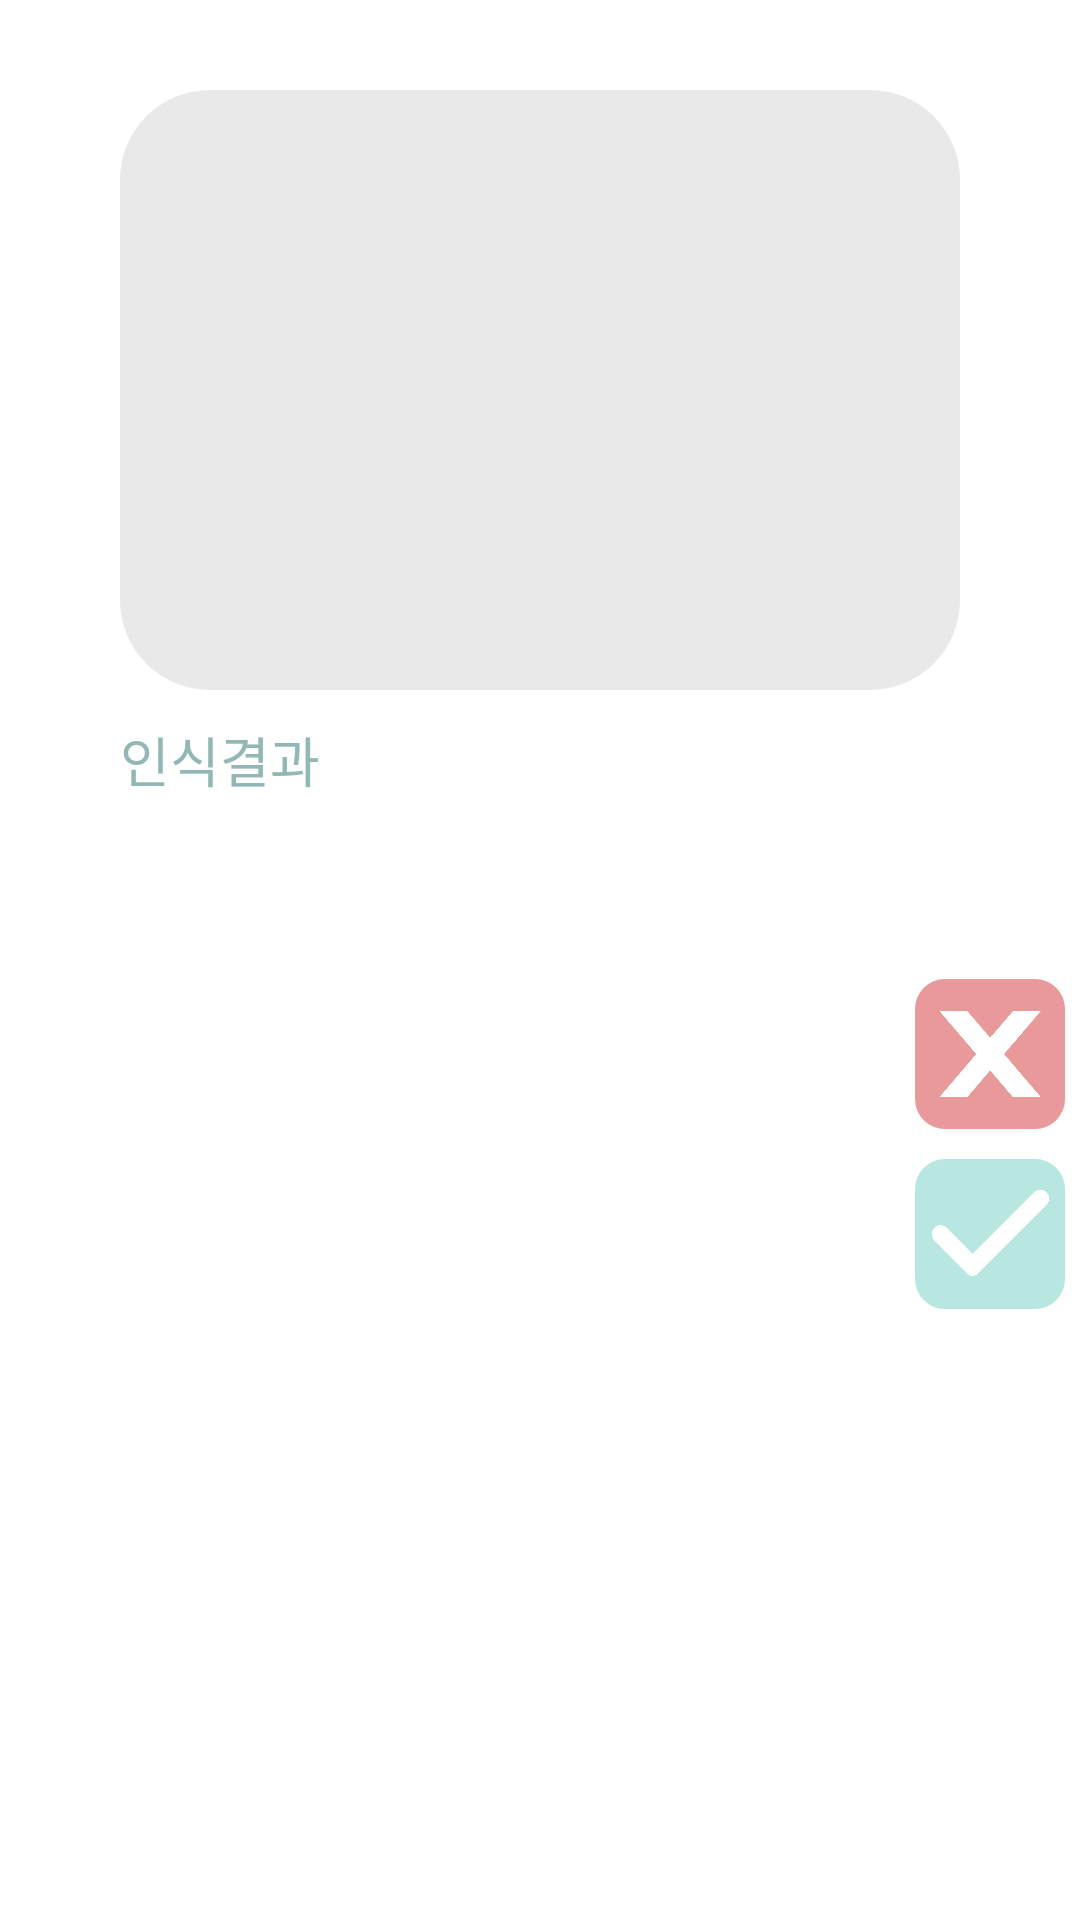

Named icons in this screenshot (1080*1920) and their centers, [x,y]:
cancel: [990,1054]
check: [990,1234]
